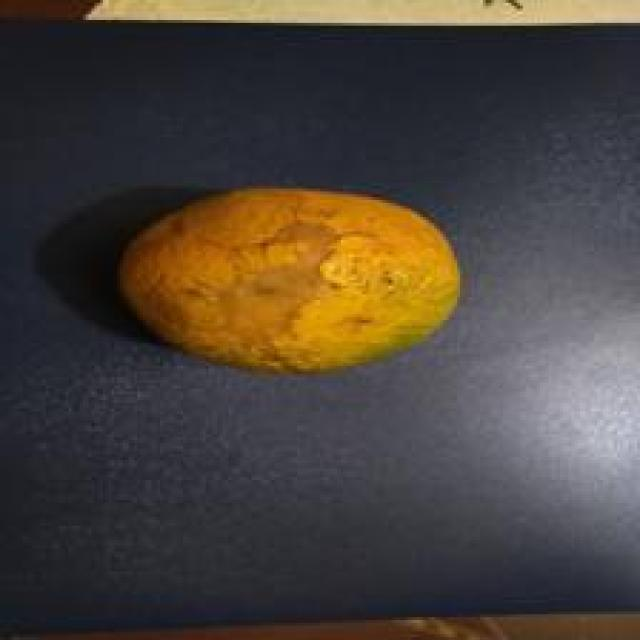overripe: (103, 178, 468, 380)
